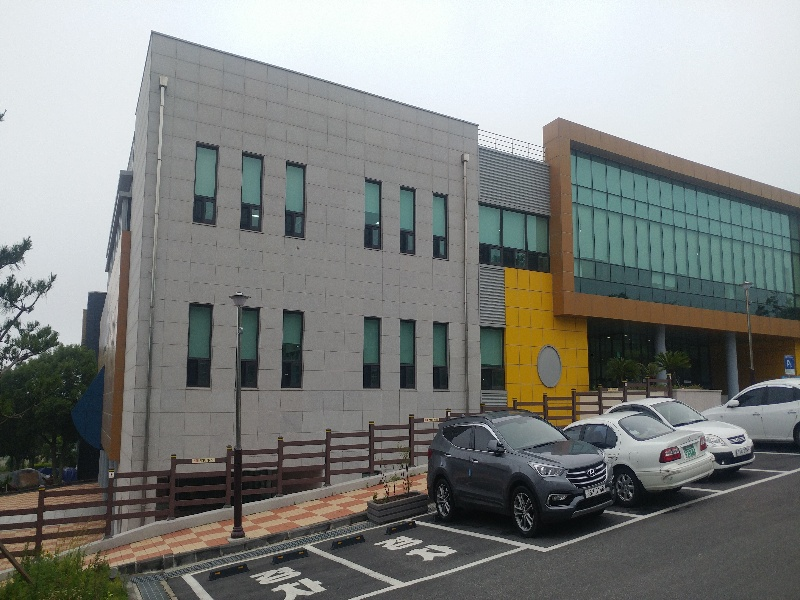Digital Library: (114, 36, 792, 376)
